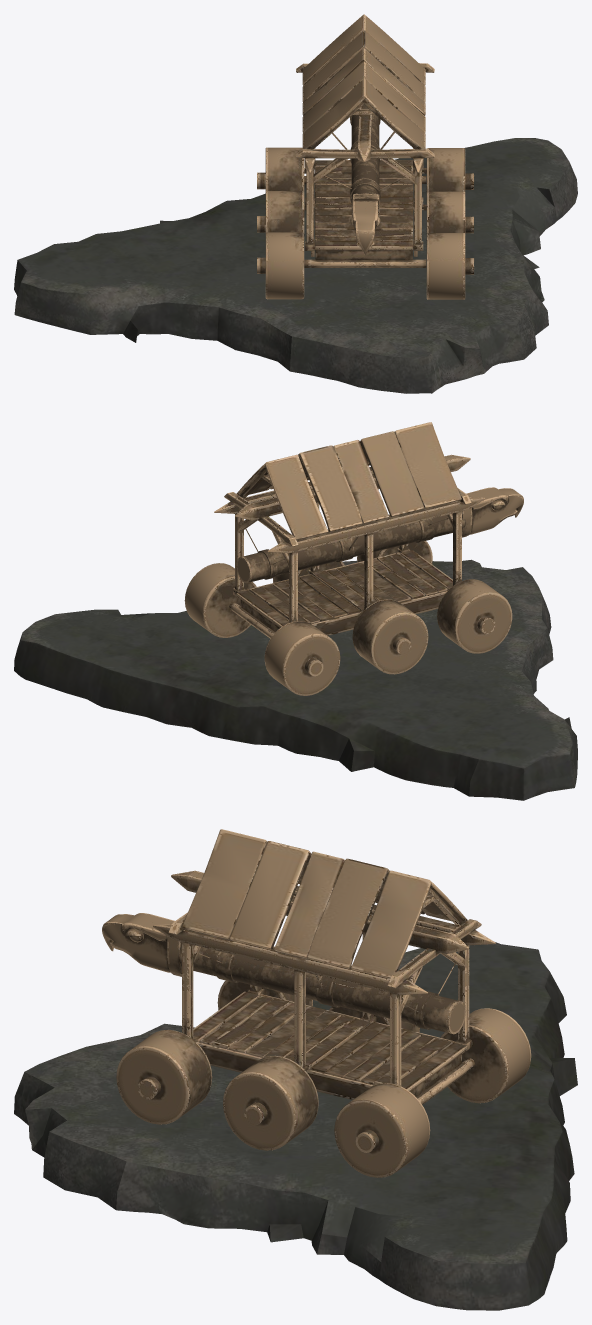
Rendered from siege.glb.
3 views of the same model, one above another, from view 1: azimuth 30°, elevation 25°; view 2: azimuth 150°, elevation 25°; view 3: azimuth 270°, elevation 25° (orthographic). The views are drawn at different scales.
Parts seen in each view (by area): view 1: siege; view 2: siege; view 3: siege.
Boxes of the visible parts, bbox=[...] form: siege: bbox=[14, 14, 577, 393]; siege: bbox=[14, 422, 577, 800]; siege: bbox=[14, 829, 577, 1310].
Bounding box in the file's own units: 2.33 × 0.9448 × 1.64.
Materials: 2 (2 with a texture image).
